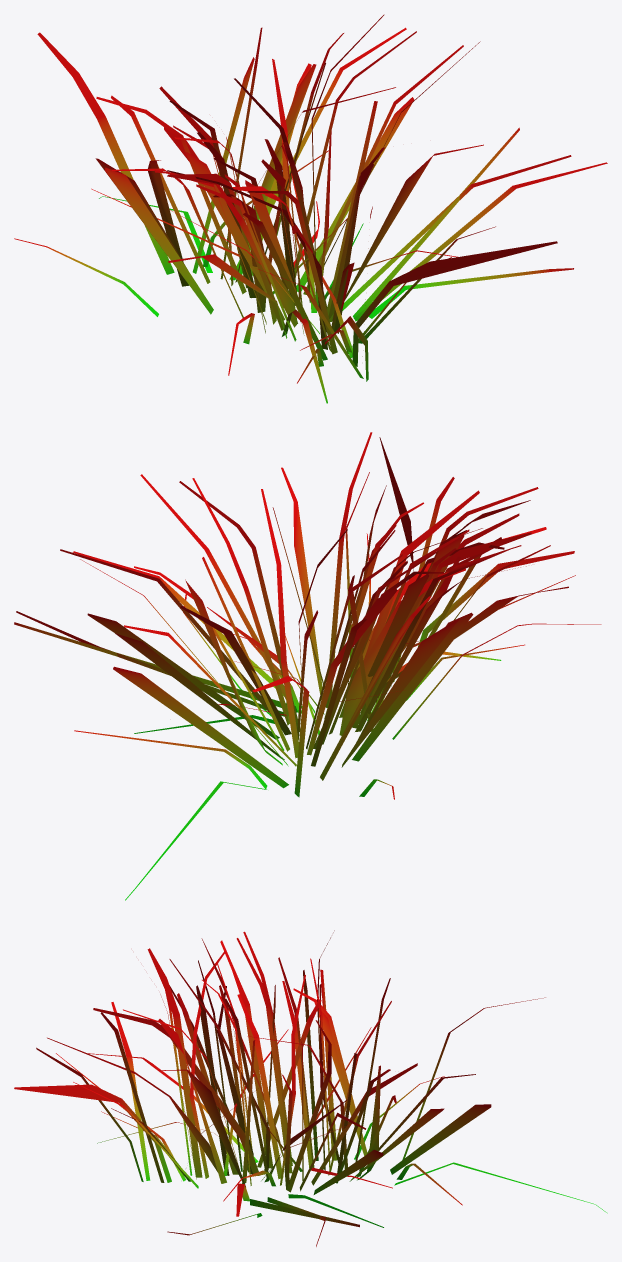
Rendered from grass.fbx.
3 views of the same model, one above another, from view 1: azimuth 30°, elevation 25°; view 2: azimuth 150°, elevation 25°; view 3: azimuth 270°, elevation 25° (orthographic). The views are drawn at different scales.
Visible parts, largest first — view 1: _pacv_Var7_LOD0; view 2: _pacv_Var7_LOD0; view 3: _pacv_Var7_LOD0.
Part boxes in pixels (x1=…): _pacv_Var7_LOD0: x1=14, y1=14, x2=607, y2=403; _pacv_Var7_LOD0: x1=14, y1=432, x2=601, y2=900; _pacv_Var7_LOD0: x1=14, y1=930, x2=607, y2=1246.
Size of the model in its own units: 23.66 by 12.98 by 29.62.
